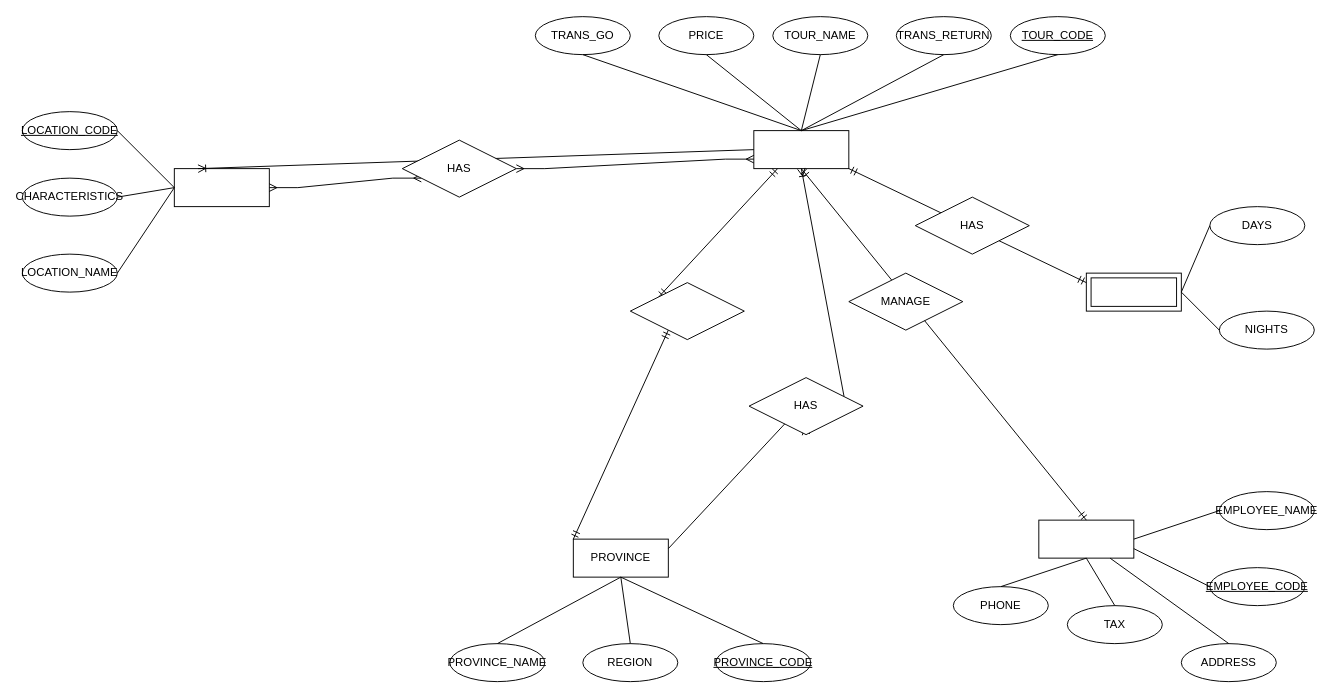
Image size: 1334x698. Some labels were removed from this diagram. Here are the shapes that lost their labels. From the top down, the centre of each, then its label:
(x=801, y=149): TOUR
(x=221, y=187): LOCATION
(x=686, y=311): BELONGS TO
(x=1133, y=291): DETAIL
(x=1086, y=538): EMPLOYEE
